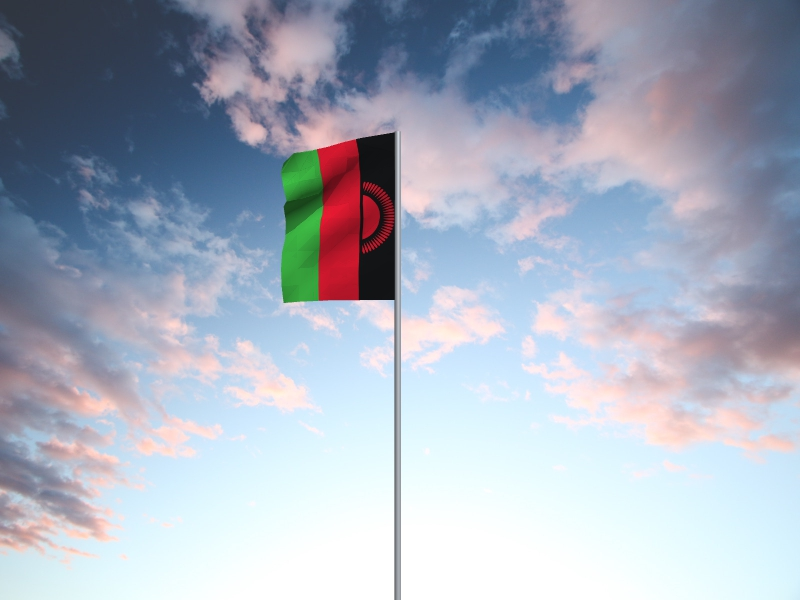mw: (281, 133, 395, 304)
